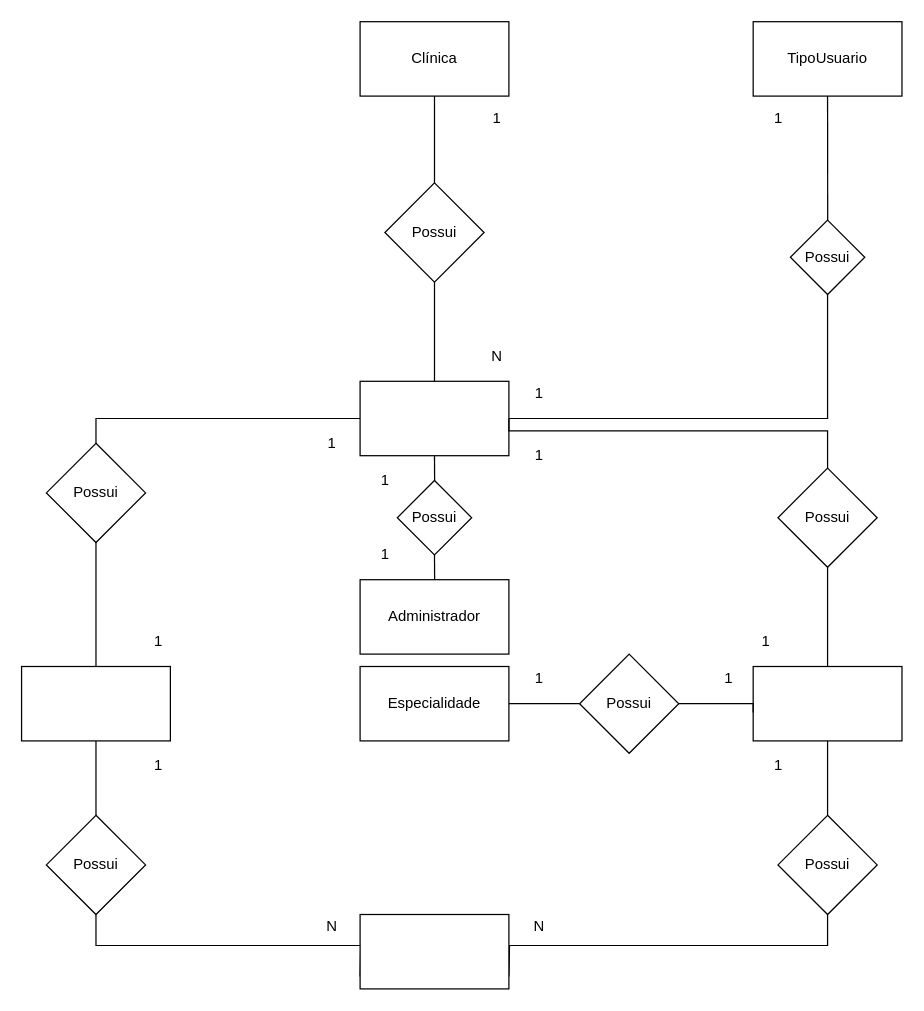
Image size: 924x1011. Some labels were removed from this diagram. The shapes that lost their labels are listed below. From the top down, each one's centre as x and y in pixels, then its label:
the point at 434,418: Usuario
the point at 95,703: Prontuário
the point at 827,703: Médico
the point at 434,951: Atendimento
